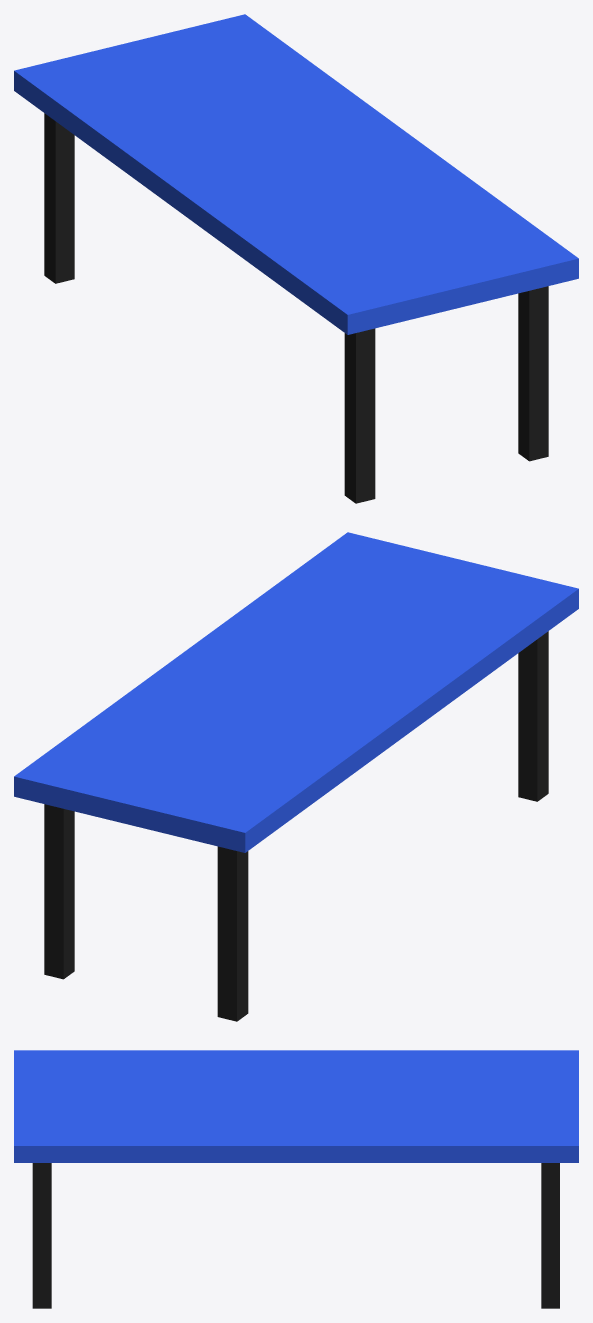
Rendered from 4er-tisch-verl-73-8er esstisch.obj.
3 views of the same model, one above another, from view 1: azimuth 30°, elevation 25°; view 2: azimuth 150°, elevation 25°; view 3: azimuth 270°, elevation 25° (orthographic). The views are drawn at different scales.
Visible parts, largest first — view 1: 8er esstisch; view 2: 8er esstisch; view 3: 8er esstisch.
Part boxes in pixels (<box>): 8er esstisch: <box>14,14,578,503</box>; 8er esstisch: <box>14,532,578,1021</box>; 8er esstisch: <box>14,1050,578,1308</box>.
Bounding box in the file's own units: 1.2 × 1 × 3.
Materials: 1 (1 with a texture image).
